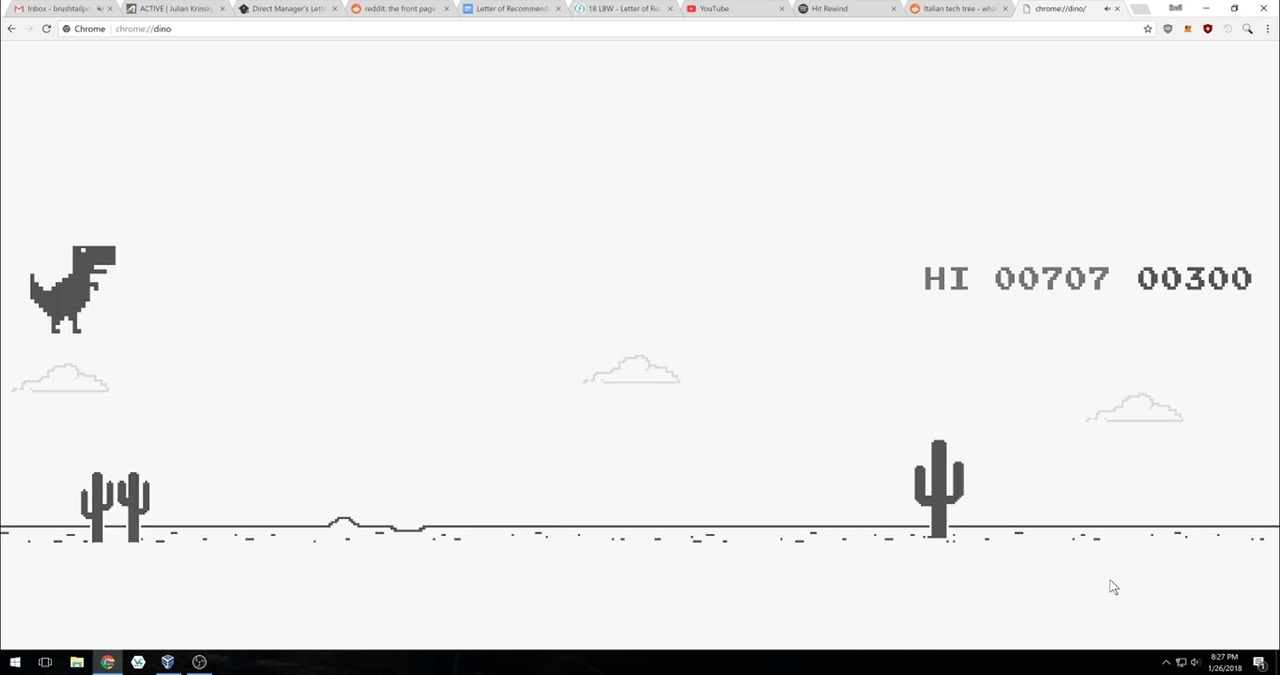cactus: (914, 436, 968, 541), (82, 468, 152, 545)
dinosaur: (29, 243, 117, 335)
